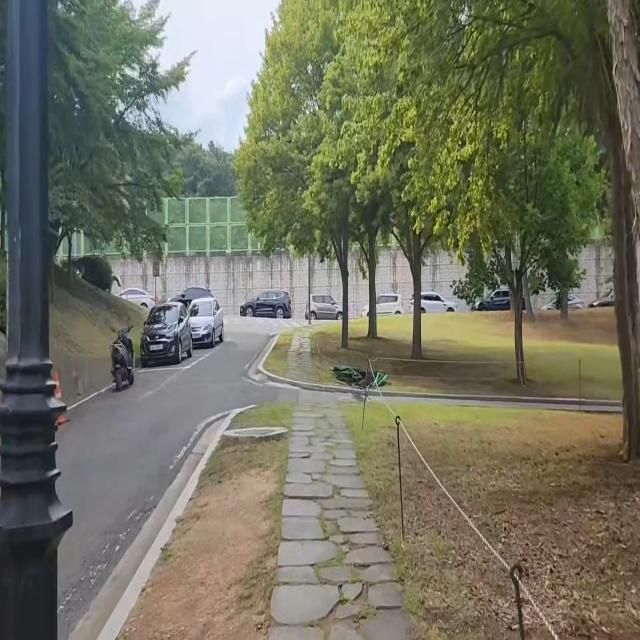obstacle: (0, 0, 73, 640), (136, 302, 198, 363), (104, 310, 141, 400), (179, 296, 228, 360)
road: (68, 330, 280, 640)
sidewalk: (270, 401, 431, 640), (288, 326, 321, 385)
